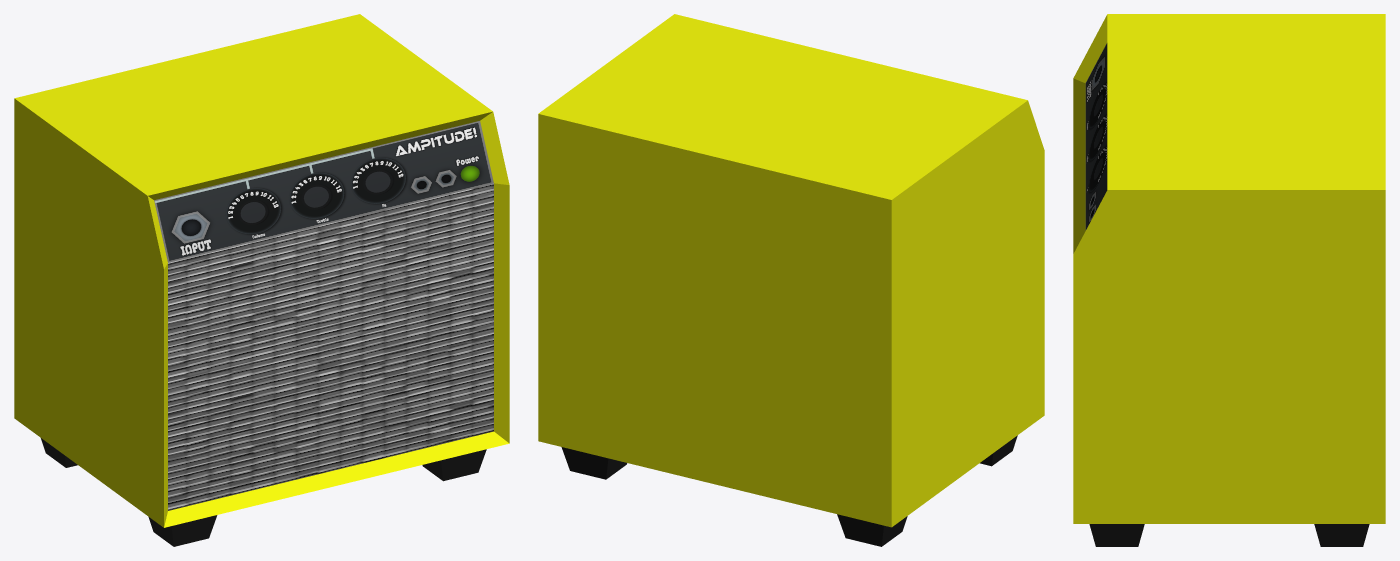
Rendered from Amp_I.FBX.
3 views of the same model, side by side, from view 1: azimuth 30°, elevation 25°; view 2: azimuth 150°, elevation 25°; view 3: azimuth 270°, elevation 25° (orthographic). The views are drawn at different scales.
Parts seen in each view (by area): view 1: Amp; view 2: Amp; view 3: Amp.
Boxes of the visible parts, x1,y1,x2,y2 form: Amp: (14, 14, 509, 546); Amp: (538, 14, 1044, 546); Amp: (1073, 14, 1385, 546).
Size of the model in its own units: 55.04 by 53.57 by 41.28.
